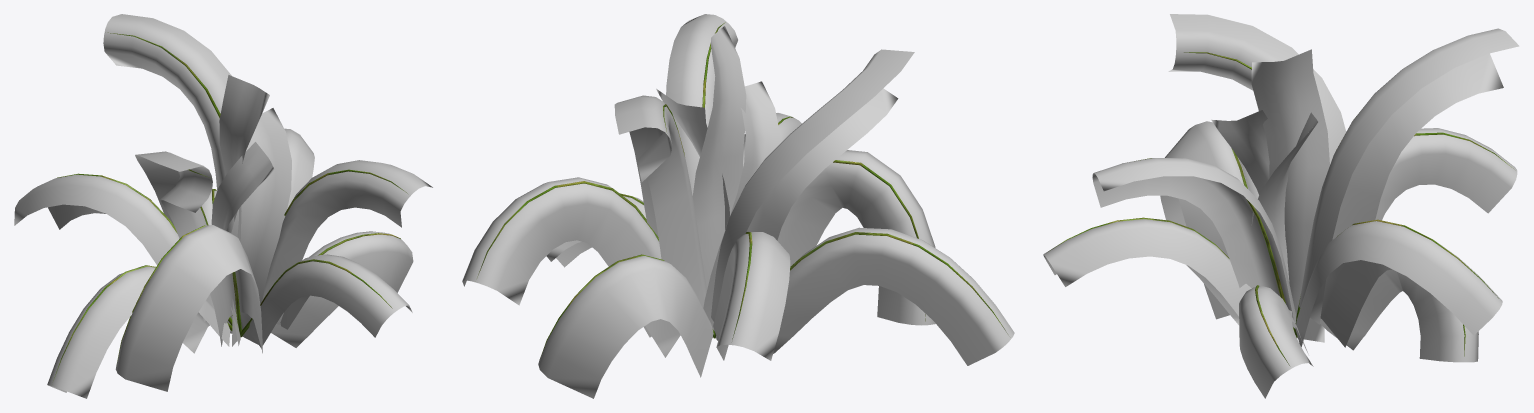
3 views of the same model, side by side, from view 1: azimuth 30°, elevation 25°; view 2: azimuth 150°, elevation 25°; view 3: azimuth 270°, elevation 25° (orthographic). The views are drawn at different scales.
Visible parts, largest first — view 1: Boston_Fern_11; view 2: Boston_Fern_11; view 3: Boston_Fern_11.
Part boxes in pixels (x1=…): Boston_Fern_11: x1=14, y1=14, x2=432, y2=398; Boston_Fern_11: x1=462, y1=14, x2=1014, y2=398; Boston_Fern_11: x1=1043, y1=14, x2=1519, y2=398.
Bounding box in the file's own units: 0.6594 × 0.446 × 0.6275.
